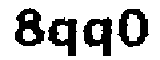0: (119, 6, 151, 53)
8: (8, 6, 45, 49)
q: (46, 14, 82, 60), (82, 16, 114, 60)
